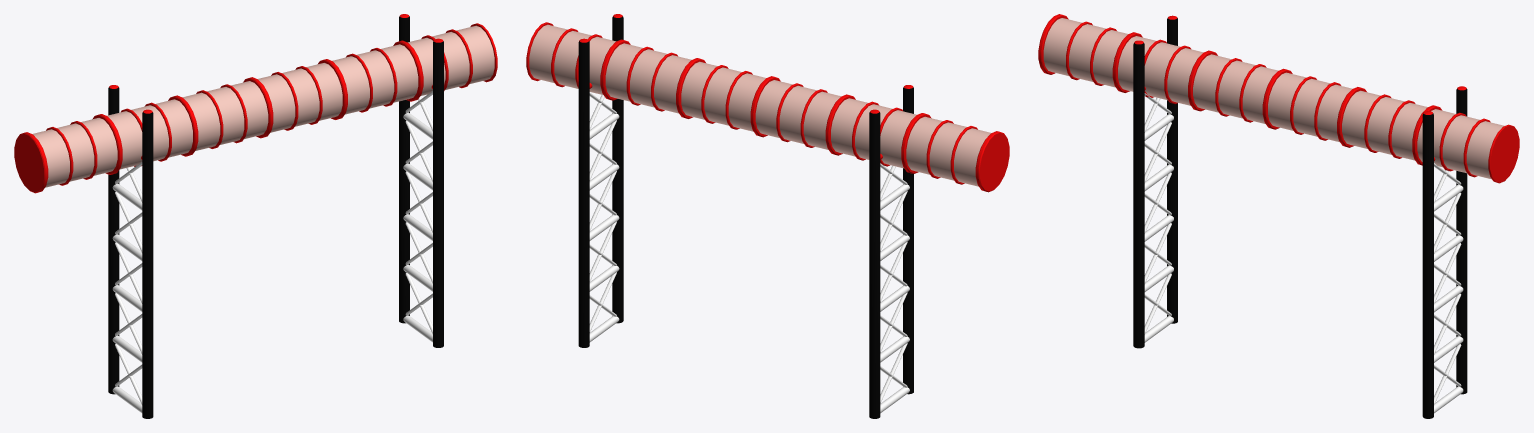
3 renders of one model, left to right at view 1: azimuth 30°, elevation 25°; view 2: azimuth 150°, elevation 25°; view 3: azimuth 330°, elevation 25°, orthographic.
Visible parts, largest first — view 1: f_unit_21; view 2: f_unit_21; view 3: f_unit_21.
Part boxes in pixels (left/top/right/bottom): f_unit_21: left=14, top=14, right=497, bottom=418; f_unit_21: left=526, top=14, right=1009, bottom=418; f_unit_21: left=1038, top=14, right=1519, bottom=418.
Bounding box in the file's own units: 558 × 359 × 83.95.
